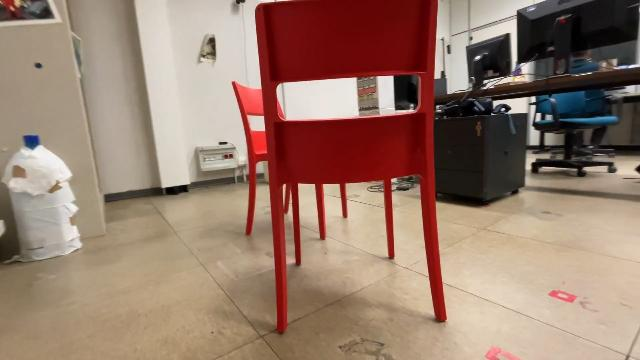Chair: (251, 0, 454, 340), (228, 77, 354, 246)
